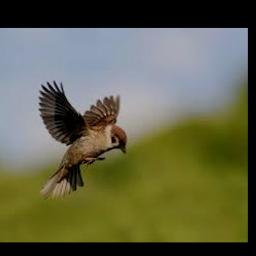Sparrow: (39, 81, 127, 200)
